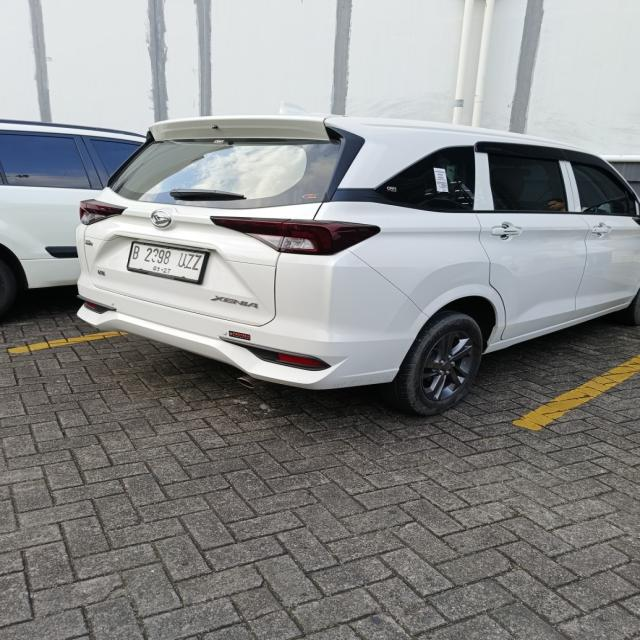plates: (116, 235, 207, 289)
